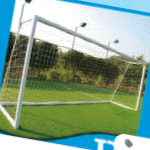goals: (1, 16, 147, 133)
